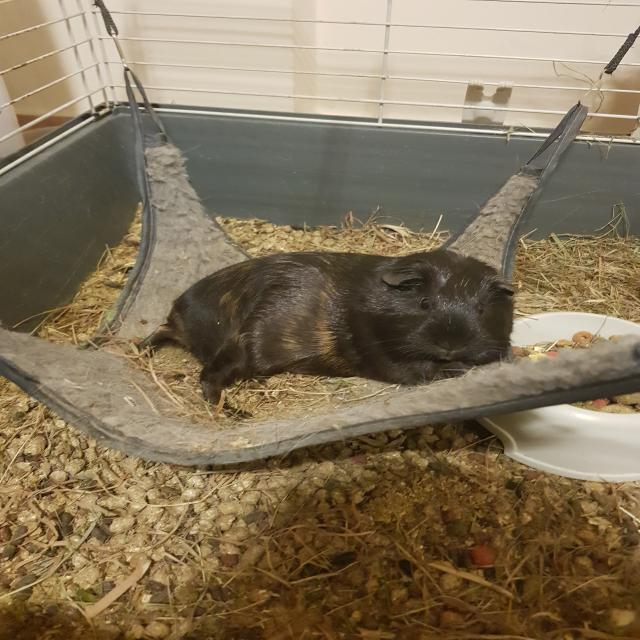guinea pig: (138, 247, 516, 422)
